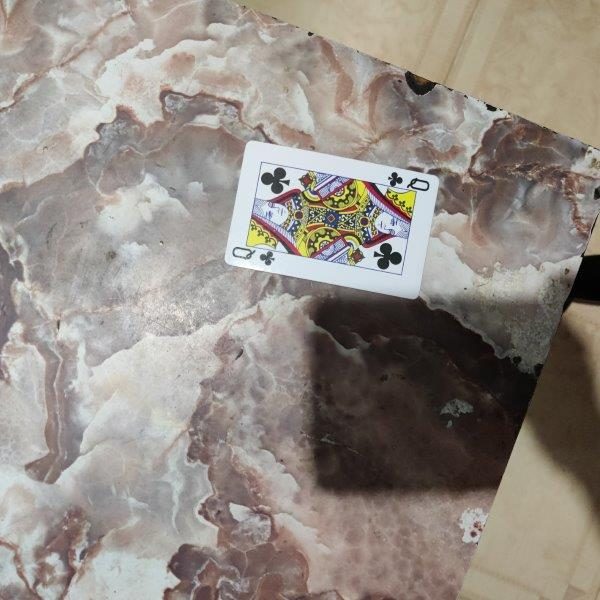Queen of Clubs: (224, 140, 441, 301)
